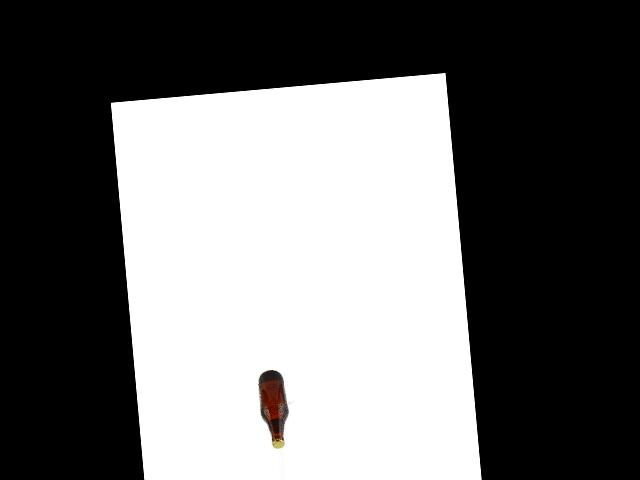beer: (258, 369, 290, 449)
